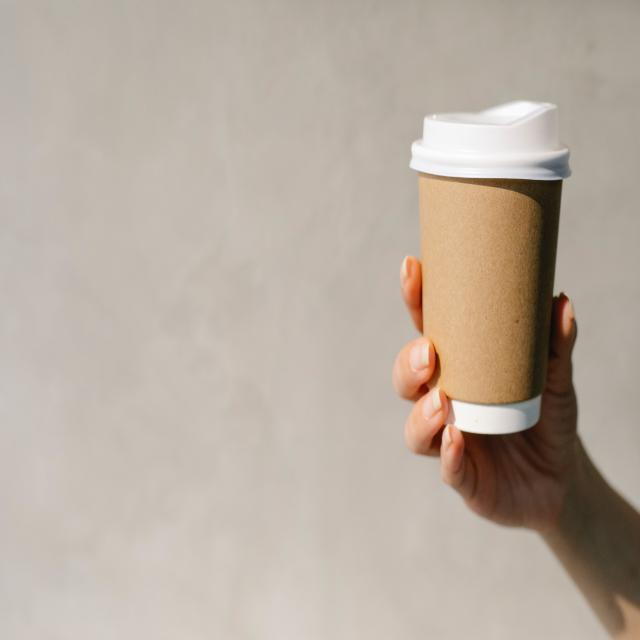cup: (410, 92, 572, 441)
